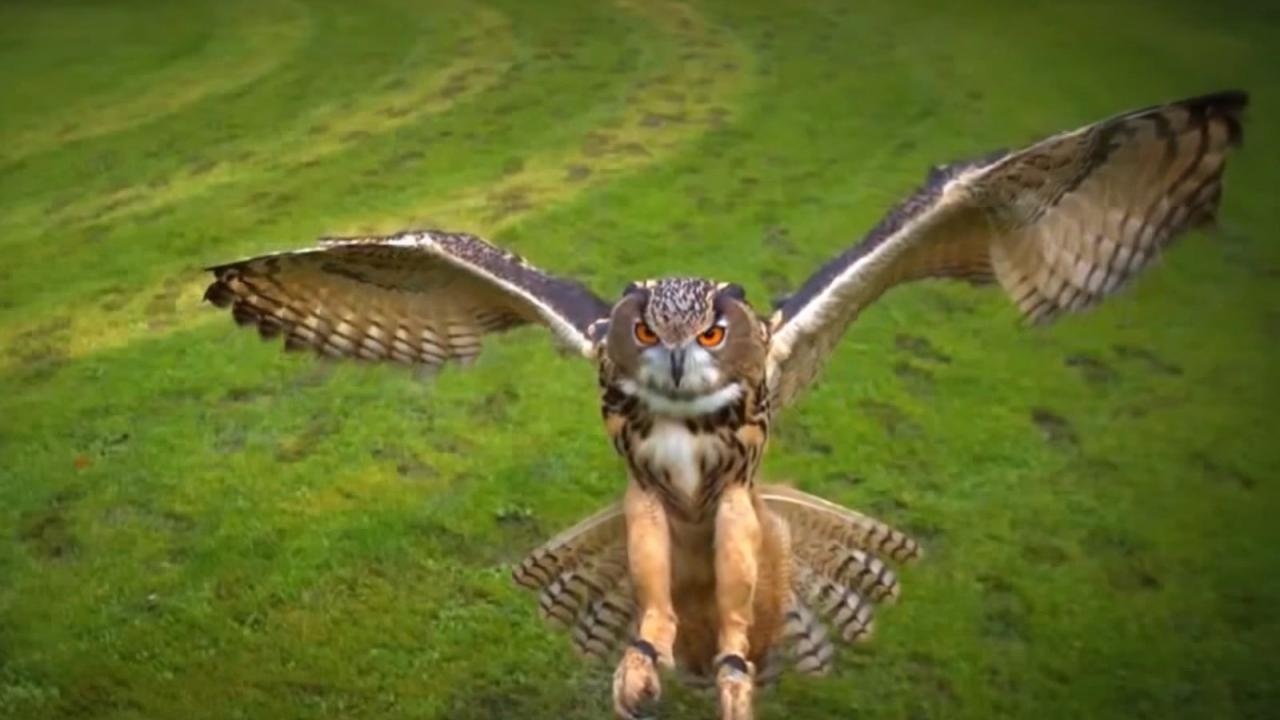Bird: (185, 67, 1262, 720)
